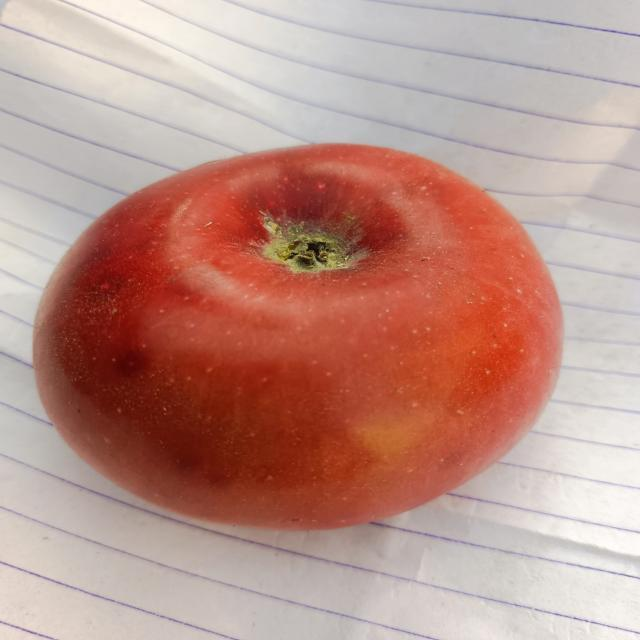Fresh Apple: (33, 140, 550, 523)
